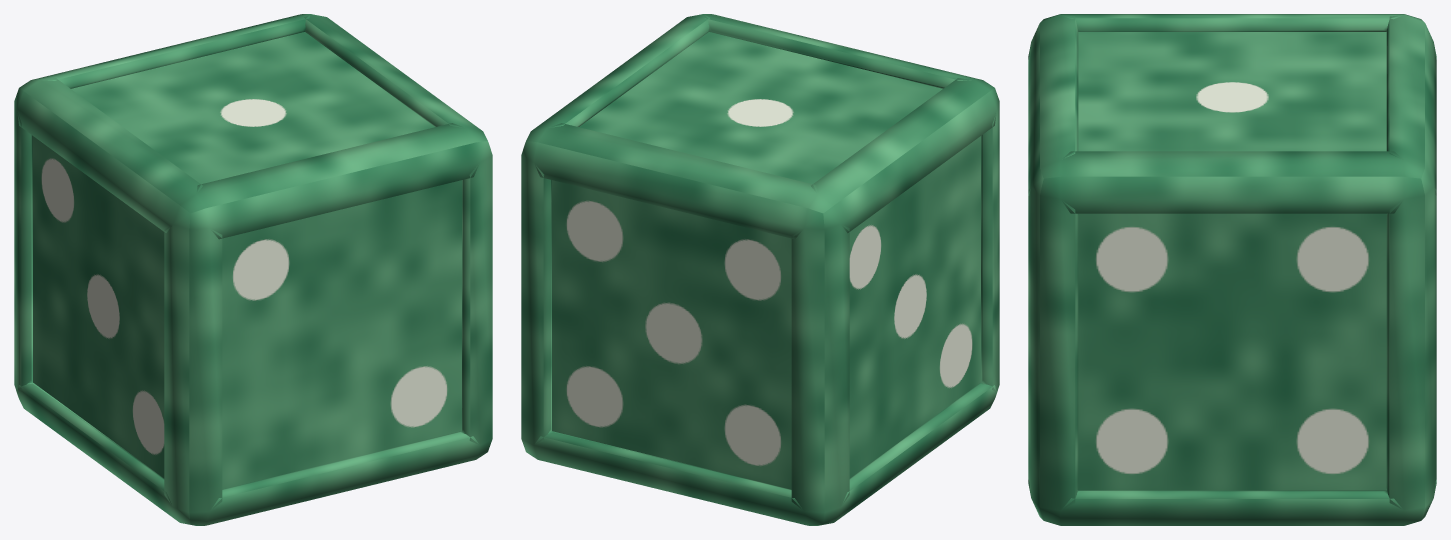
File: Die_Fives.fbx
3 views of the same model, side by side, from view 1: azimuth 30°, elevation 25°; view 2: azimuth 150°, elevation 25°; view 3: azimuth 270°, elevation 25° (orthographic). The views are drawn at different scales.
Visible parts, largest first — view 1: Die_Fives; view 2: Die_Fives; view 3: Die_Fives.
Part boxes in pixels (x1,y1,x2,y2): Die_Fives: (14,14,492,525); Die_Fives: (521,14,999,525); Die_Fives: (1028,14,1436,525).
Bounding box in the file's own units: 0.3 × 0.3 × 0.3.
Materials: 1 (1 with a texture image).
